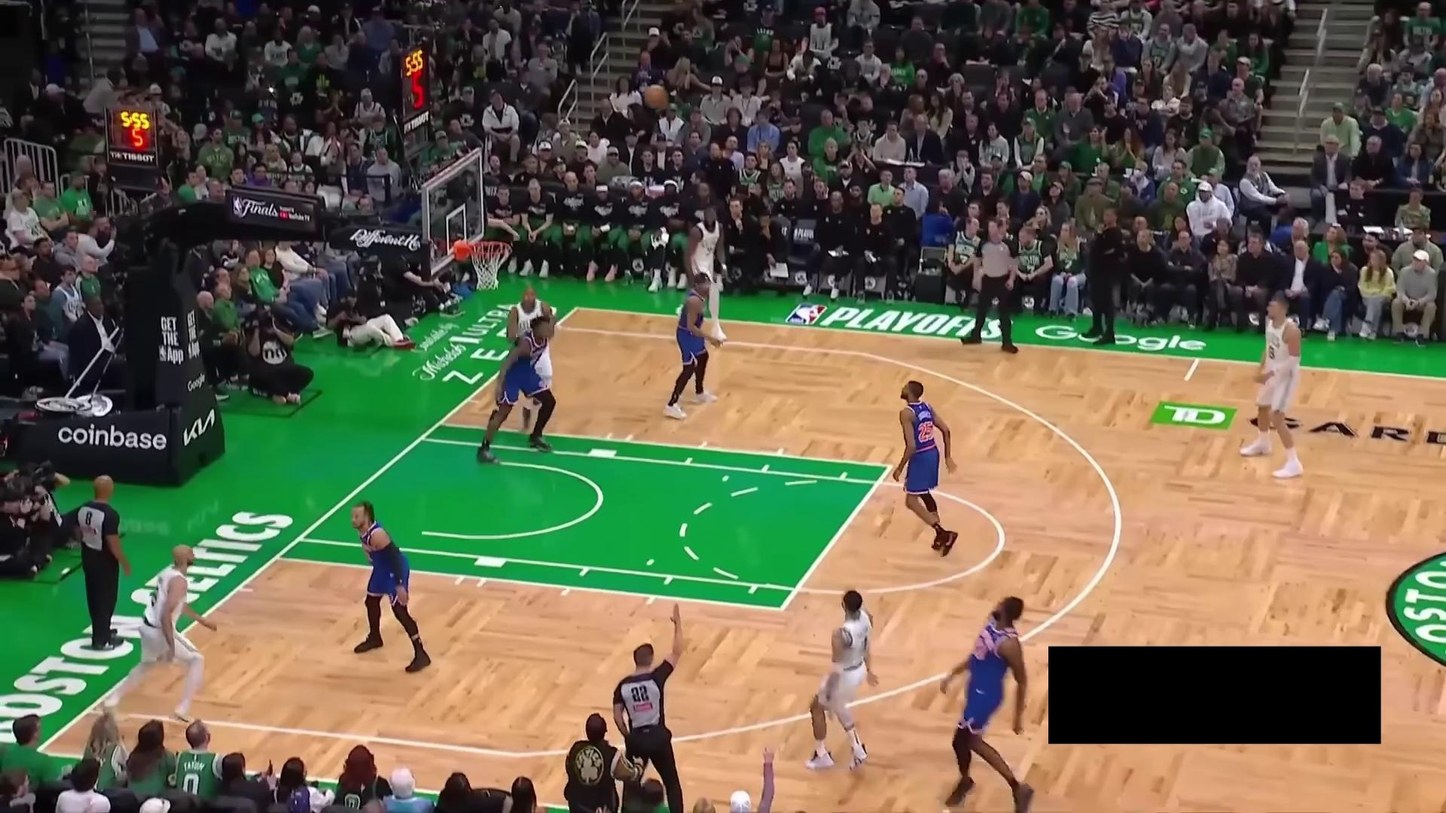ball: (643, 84, 669, 109)
number: (918, 420, 934, 444), (1268, 344, 1276, 359)
player: (936, 590, 1045, 813), (101, 542, 221, 726), (348, 502, 434, 674), (1236, 291, 1310, 480), (803, 586, 878, 771), (893, 376, 962, 557), (477, 316, 556, 466), (661, 269, 728, 420), (505, 287, 557, 434), (683, 202, 730, 342)
referee: (613, 599, 690, 813), (68, 470, 138, 651), (960, 213, 1019, 353)
rim: (468, 237, 517, 256)
